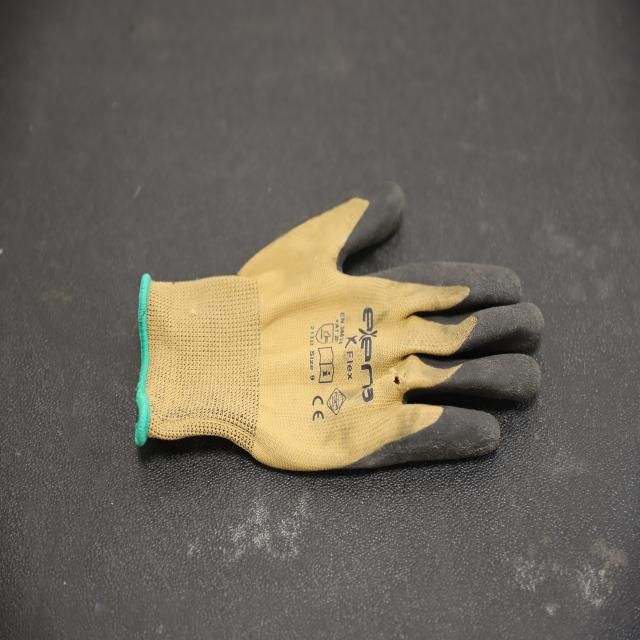glove: (127, 174, 547, 483)
